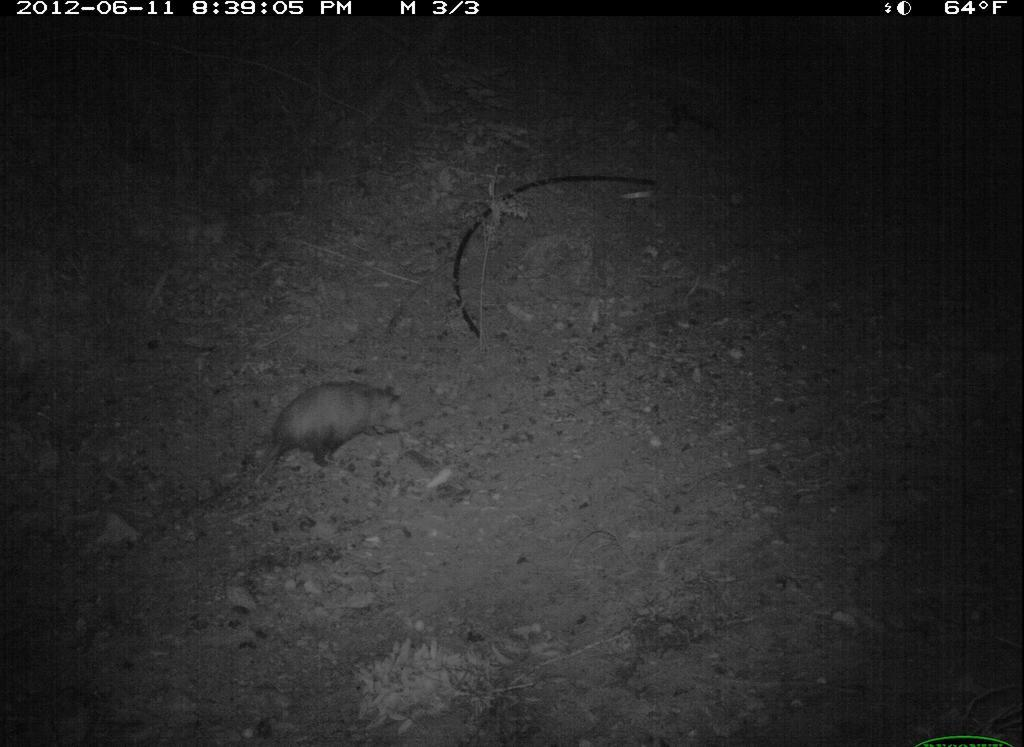opossum: (245, 372, 419, 489)
